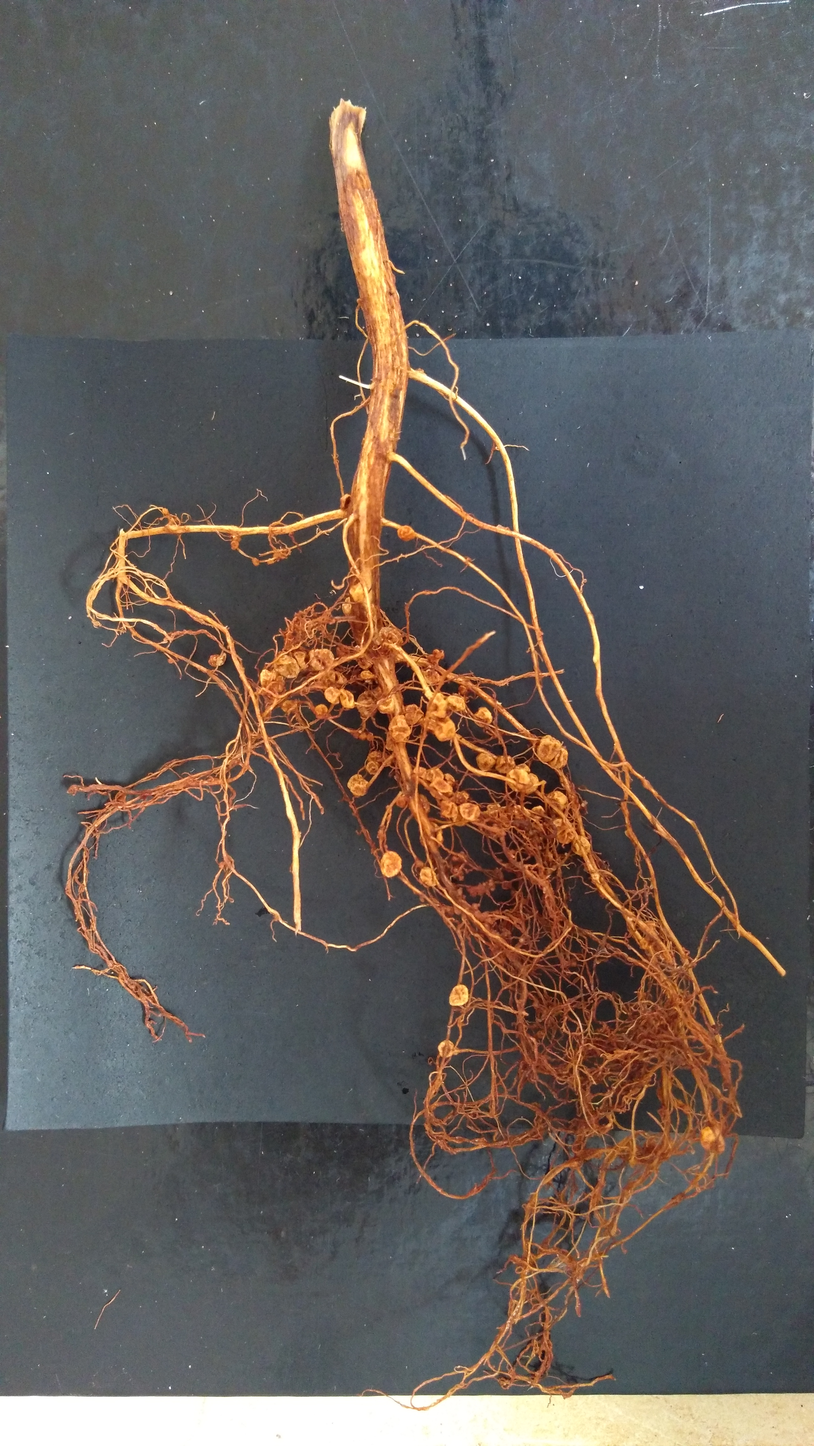nodule: (700, 1125, 726, 1155), (531, 735, 560, 761), (272, 652, 299, 678), (260, 667, 285, 692), (389, 713, 411, 740), (309, 647, 334, 670), (434, 716, 456, 742), (506, 766, 528, 792), (380, 850, 401, 877), (554, 816, 575, 843), (447, 984, 471, 1007), (345, 774, 369, 796), (427, 692, 447, 718), (402, 702, 424, 725), (357, 691, 377, 716), (570, 834, 591, 857), (348, 581, 368, 605), (548, 747, 569, 769), (546, 789, 568, 810), (380, 626, 404, 644), (495, 752, 515, 773), (395, 524, 418, 542), (436, 1040, 459, 1058), (473, 706, 493, 726), (477, 750, 496, 771), (439, 797, 458, 818), (428, 821, 443, 847), (429, 776, 453, 792), (419, 866, 438, 886), (376, 694, 395, 713), (458, 802, 479, 819), (414, 792, 430, 814), (445, 695, 466, 711), (327, 670, 348, 686), (322, 686, 340, 704), (339, 688, 355, 708), (338, 493, 355, 511), (428, 647, 444, 665), (425, 767, 444, 782), (207, 652, 227, 666), (422, 668, 440, 683), (527, 772, 539, 794), (336, 644, 352, 660), (293, 651, 308, 667), (411, 860, 423, 880), (282, 699, 299, 713), (341, 599, 354, 616), (366, 750, 383, 762), (356, 657, 374, 668), (366, 761, 380, 775), (385, 731, 395, 750), (442, 772, 456, 785), (413, 765, 426, 778), (315, 704, 327, 718), (396, 795, 408, 809), (530, 805, 544, 817), (515, 763, 530, 773), (454, 789, 469, 799), (487, 802, 501, 812), (451, 852, 467, 860), (361, 670, 375, 679), (501, 878, 511, 890), (458, 683, 468, 694), (419, 825, 424, 846), (231, 534, 242, 541), (381, 642, 390, 650), (231, 541, 239, 550), (252, 557, 259, 567), (162, 508, 170, 515), (267, 558, 275, 564)
